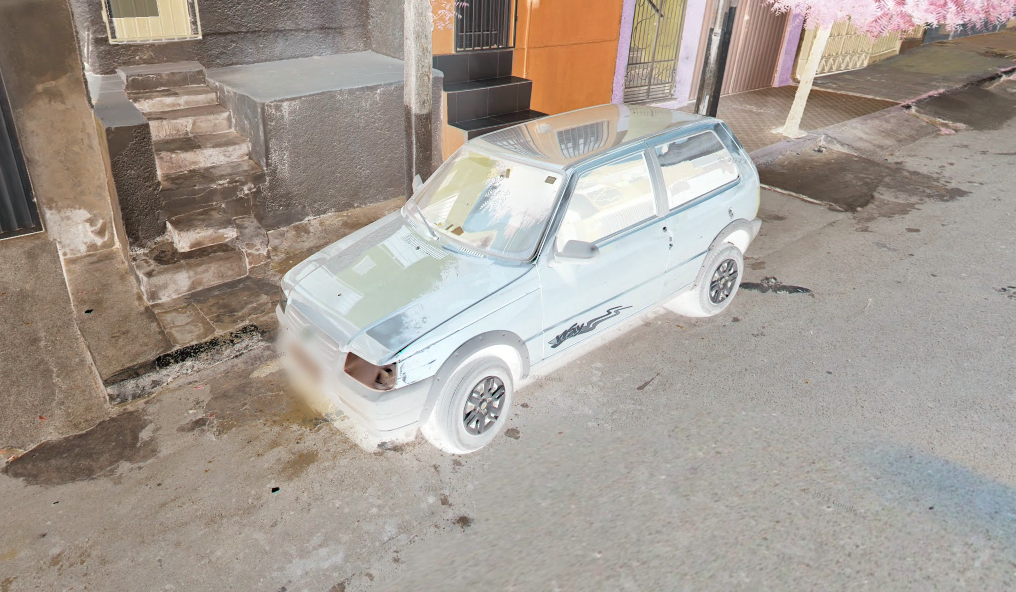car: (270, 92, 762, 457)
